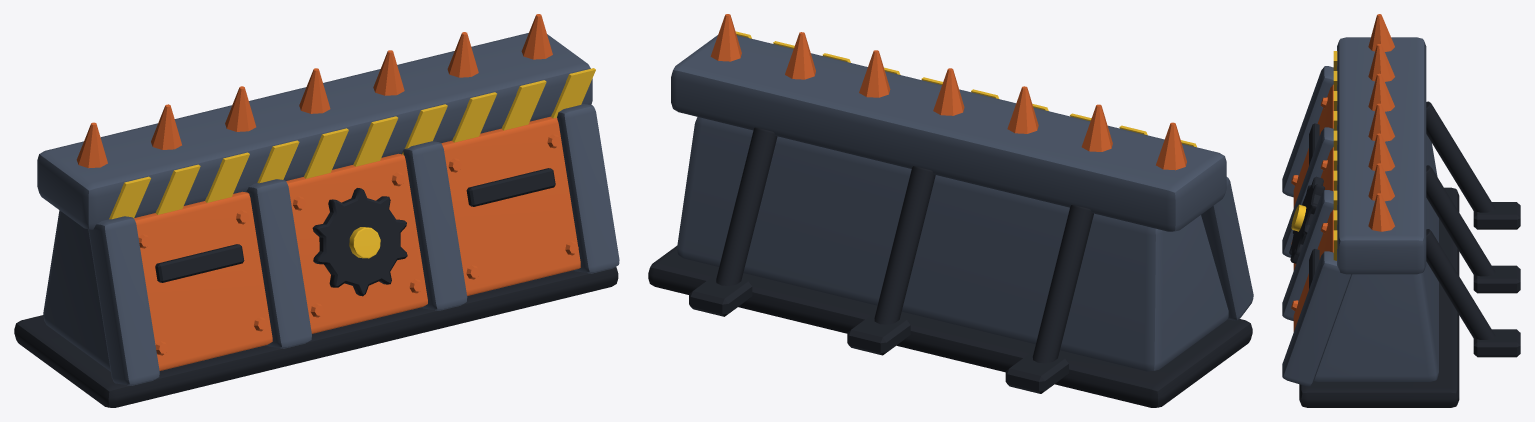
File: env_cog_barricade.fbx
3 views of the same model, side by side, from view 1: azimuth 30°, elevation 25°; view 2: azimuth 150°, elevation 25°; view 3: azimuth 270°, elevation 25° (orthographic). The views are drawn at different scales.
Visible parts, largest first — view 1: Body, Plates, Dark, Trim; view 2: Body, Dark, Plates, Trim; view 3: Body, Dark, Plates, Trim.
Part boxes in pixels (x1,y1,x2,y2): Body: [37, 33, 619, 385]; Plates: [76, 14, 580, 370]; Dark: [14, 168, 618, 407]; Trim: [109, 68, 595, 258]; Body: [671, 35, 1253, 371]; Dark: [648, 127, 1252, 407]; Plates: [710, 14, 1186, 170]; Trim: [735, 31, 1196, 147]; Body: [1282, 37, 1438, 386]; Dark: [1289, 101, 1520, 407]; Plates: [1291, 14, 1394, 331]; Trim: [1291, 51, 1337, 260].
Size of the model in its own units: 10.4 by 4.75 by 5.06.
